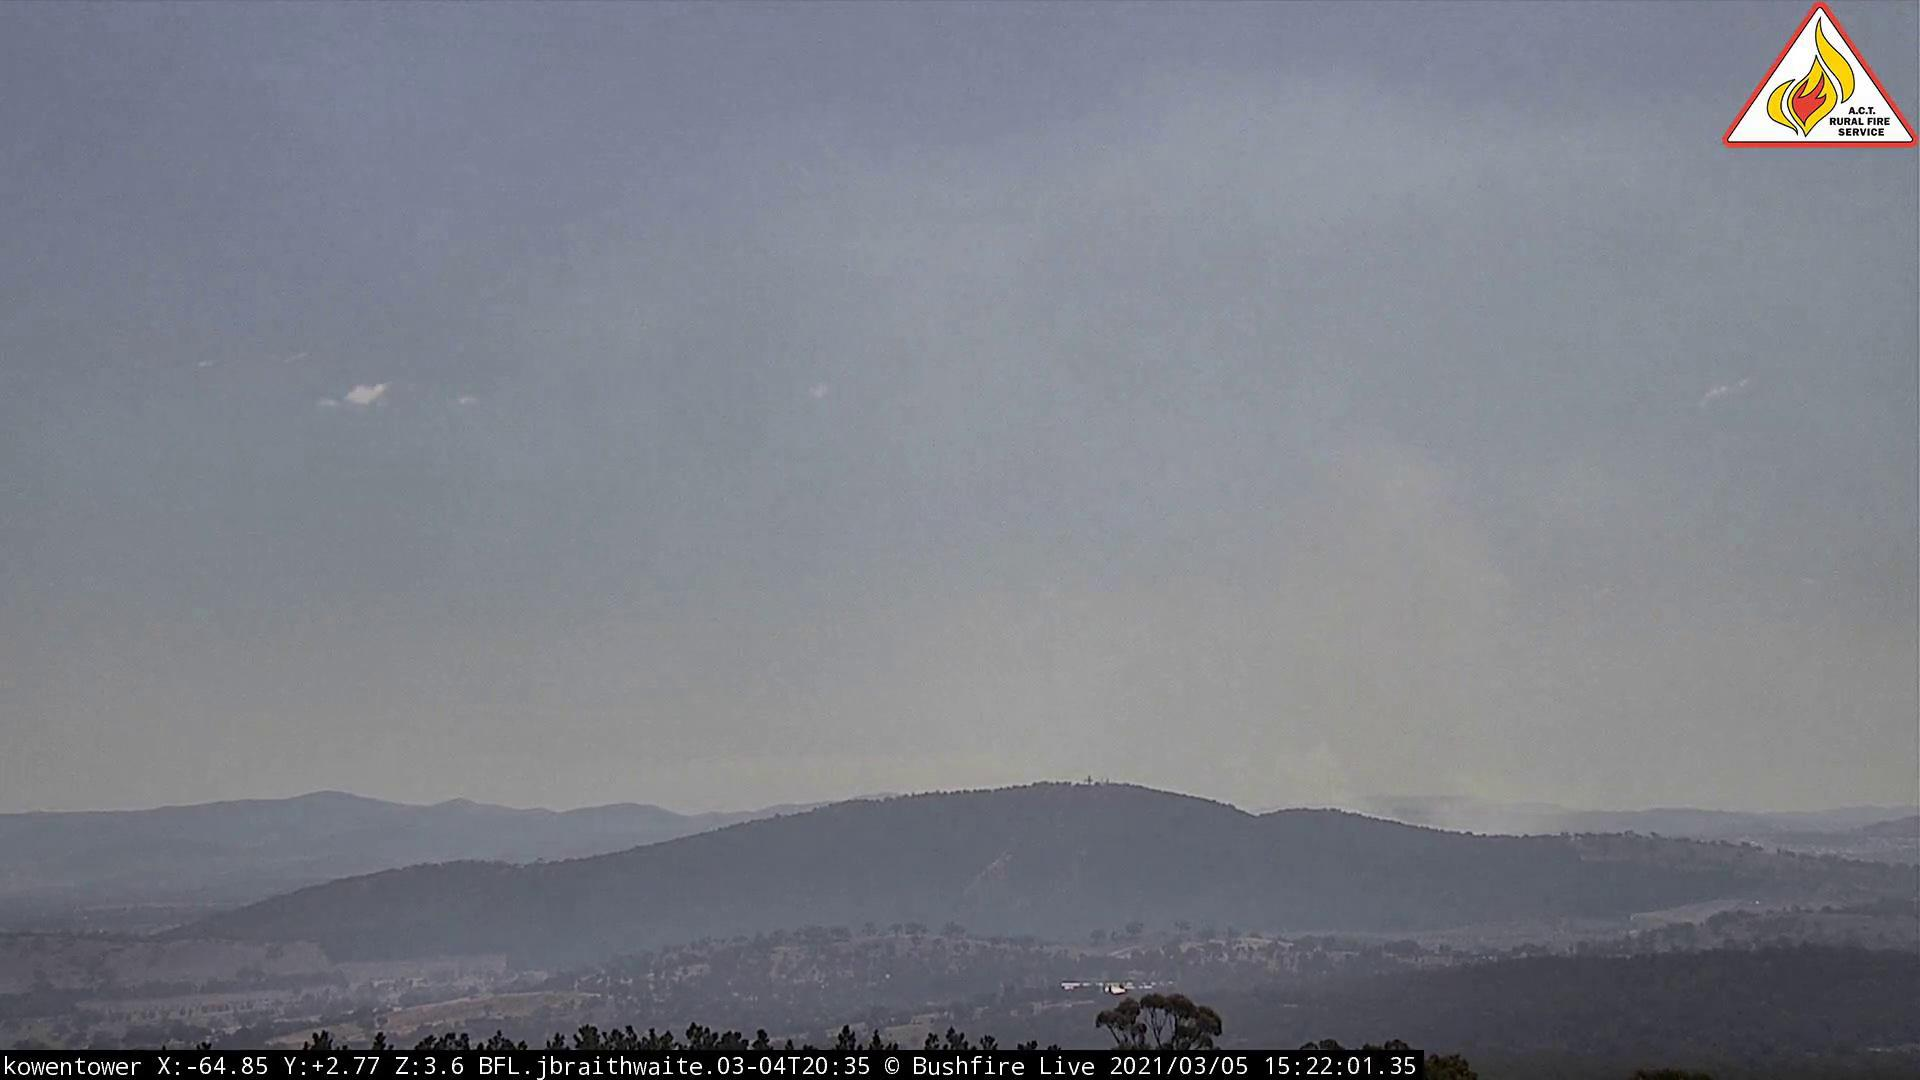instance_salient_object: (864, 406, 1576, 844)
